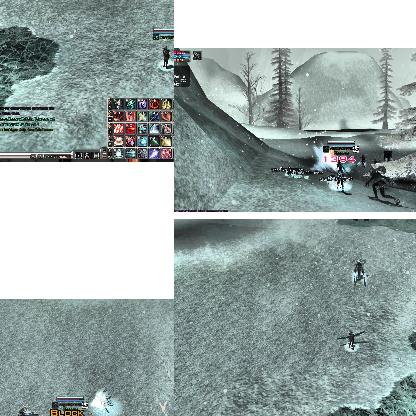caliana: (366, 165, 398, 207), (351, 258, 367, 286), (101, 391, 111, 411), (15, 409, 37, 416), (356, 154, 366, 168), (384, 151, 392, 161)
